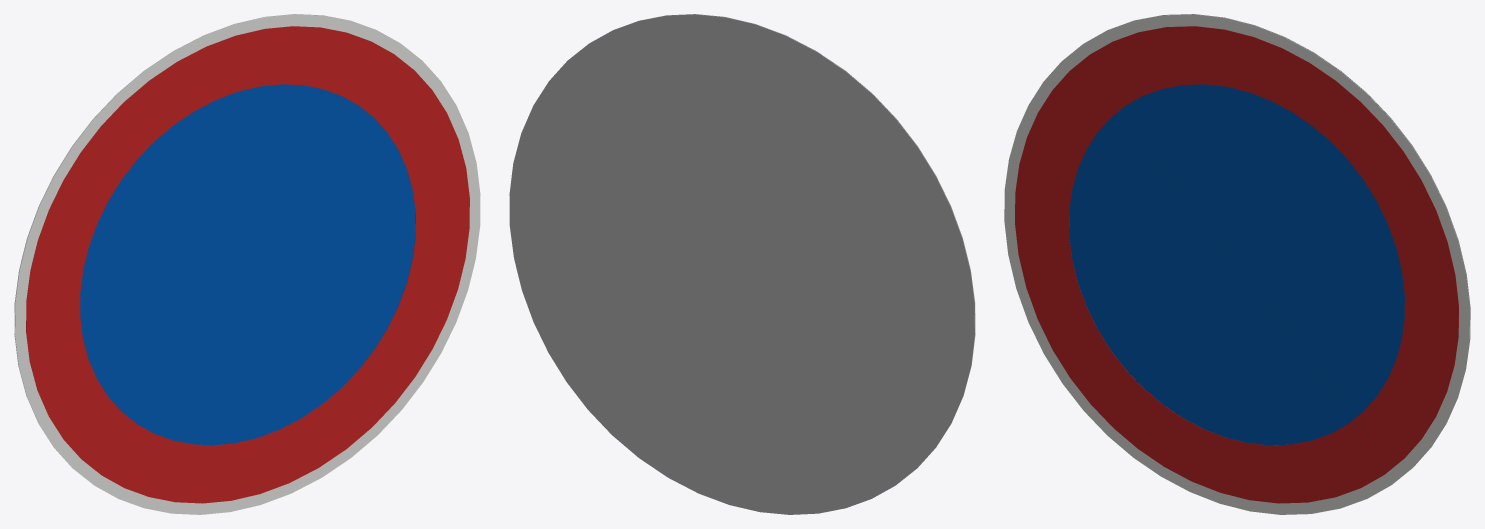
The picture shows the model from 3 angles, left to right: view 1: azimuth 30°, elevation 25°; view 2: azimuth 150°, elevation 25°; view 3: azimuth 330°, elevation 25°; orthographic projection.
Visible parts, largest first — view 1: B6a1_p01, B6a1_p02, B6a1_p00, B6a1_dos; view 2: B6a1_dos, B6a1_p00; view 3: B6a1_p01, B6a1_p02, B6a1_p00, B6a1_dos.
Boxes of the visible parts, x1,y1,x2,y2 form: B6a1_p01: (80,84,415,445); B6a1_p02: (26,26,469,503); B6a1_p00: (15,14,480,514); B6a1_dos: (14,14,375,468); B6a1_dos: (509,14,974,514); B6a1_p00: (614,14,975,468); B6a1_p01: (1069,84,1404,445); B6a1_p02: (1015,26,1458,503); B6a1_p00: (1004,14,1469,514); B6a1_dos: (1092,14,1470,465).
Size of the model in its own units: 0.85 by 0.8498 by 0.0031.
